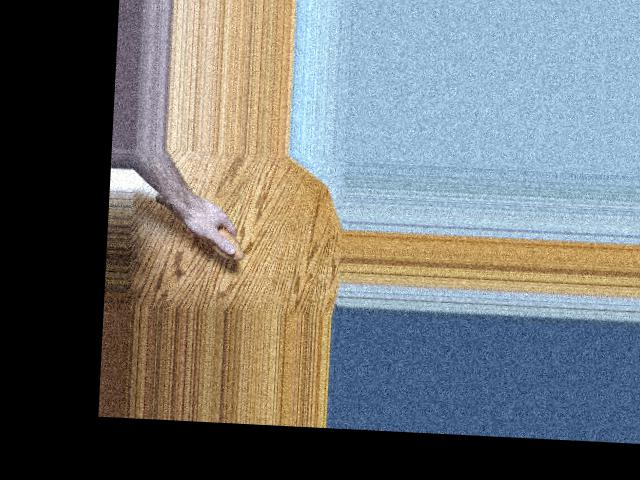sweet_potato: (153, 194, 248, 261)
